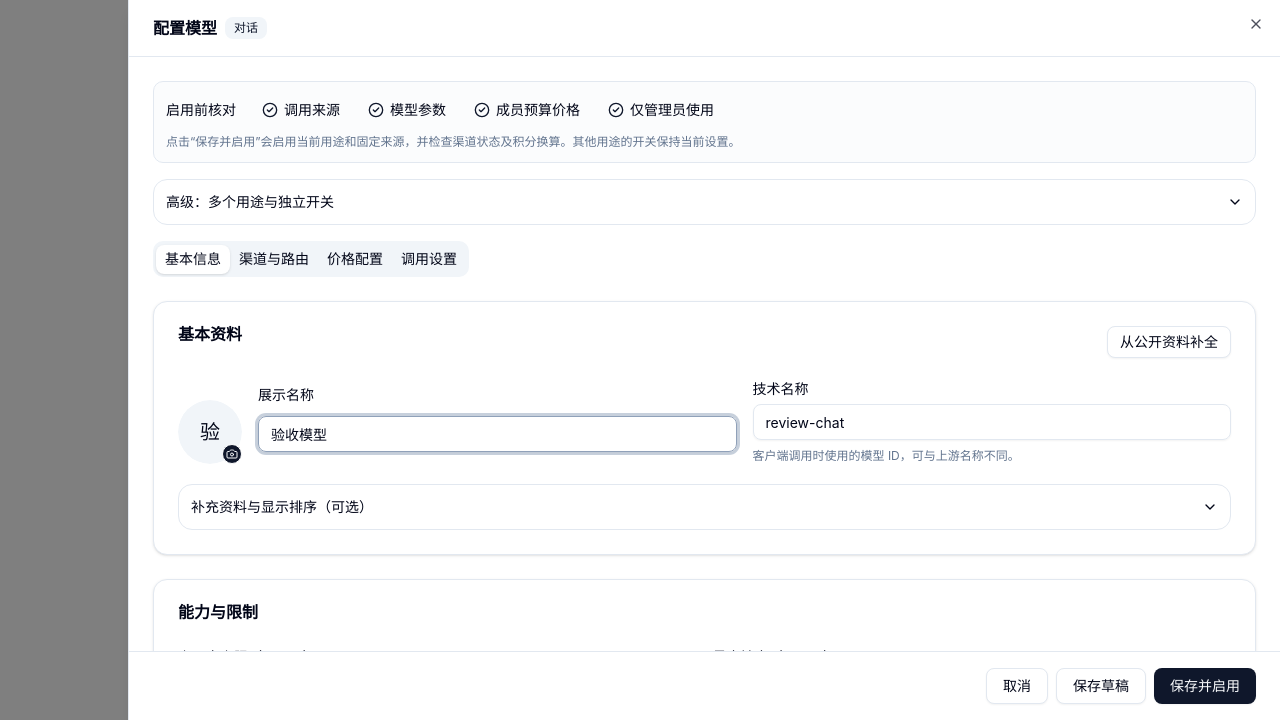
does not reactivate a globally stopped channel
Click the button "保存并启用" at (1205, 686), box [1154,668,1256,704]
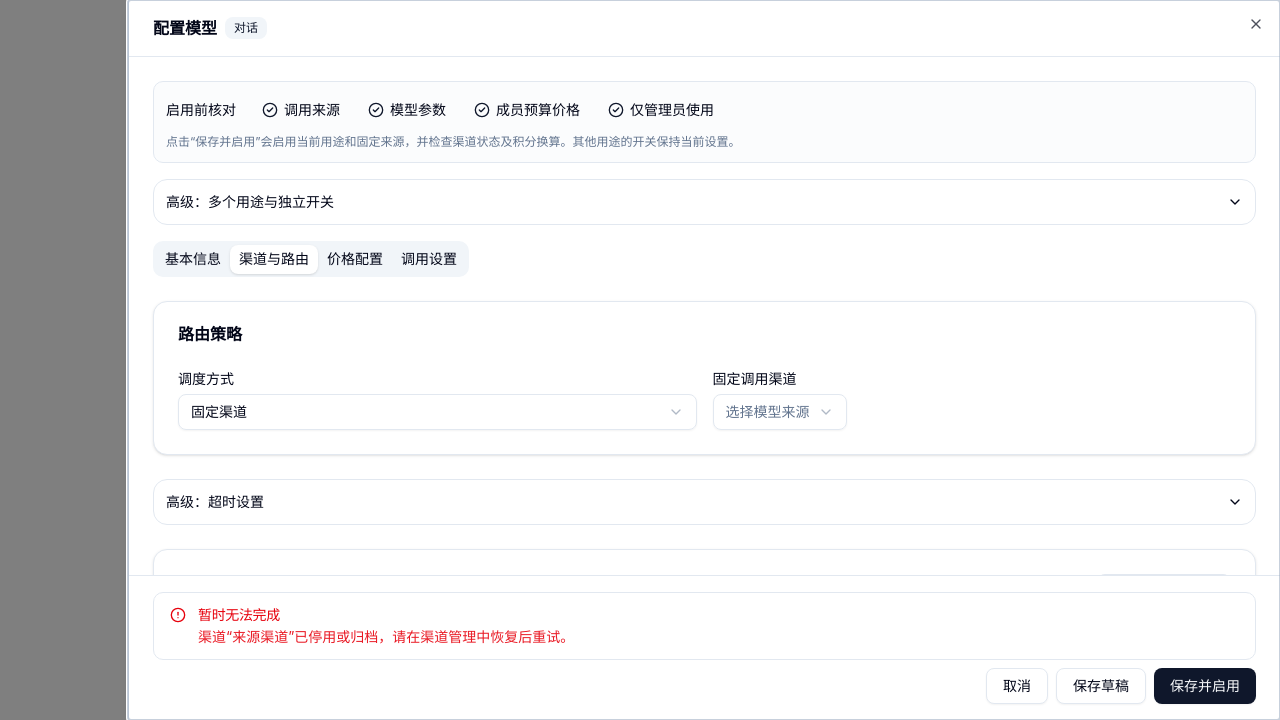
Now the text "渠道“来源渠道”已停用或归档，请在渠道管理中恢复后重试。" is shown, box [198,627,574,647]
